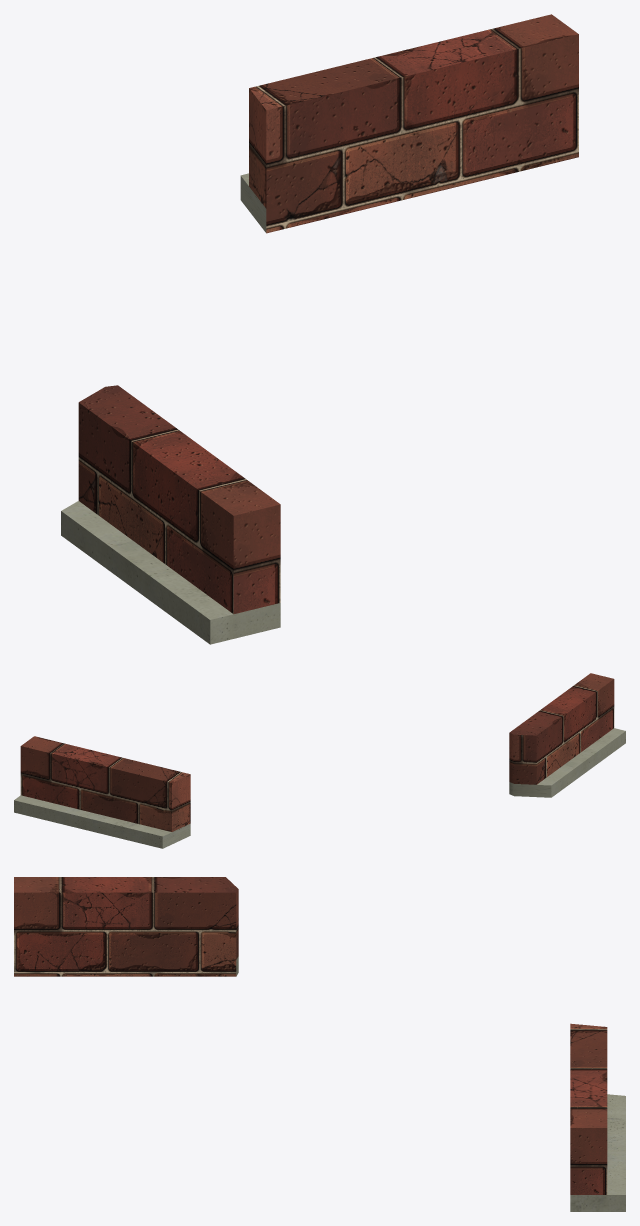
File: roof02_corner_destroyed01.fbx
The picture shows the model from 3 angles, top to bottom: view 1: azimuth 30°, elevation 25°; view 2: azimuth 150°, elevation 25°; view 3: azimuth 270°, elevation 25°; orthographic projection. The views are drawn at different scales.
Parts seen in each view (by area): view 1: roof02_corner_destroyed01; view 2: roof02_corner_destroyed01; view 3: roof02_corner_destroyed01.
Part boxes in pixels (left/top/right/bottom): roof02_corner_destroyed01: left=61, top=14, right=578, bottom=644; roof02_corner_destroyed01: left=14, top=673, right=625, bottom=848; roof02_corner_destroyed01: left=14, top=877, right=625, bottom=1211.
Size of the model in its own units: 330 by 50 by 330.
